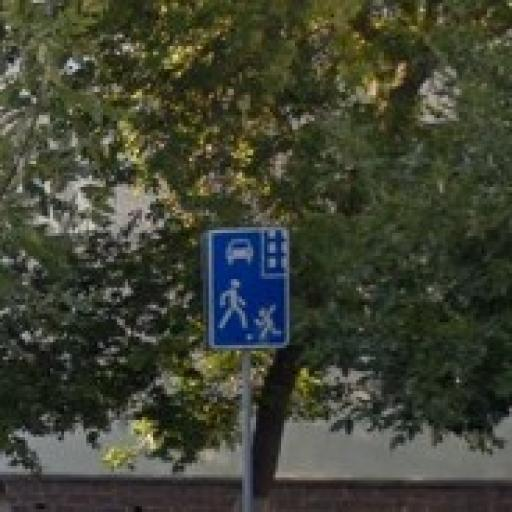traffic_sign: (207, 225, 293, 349)
